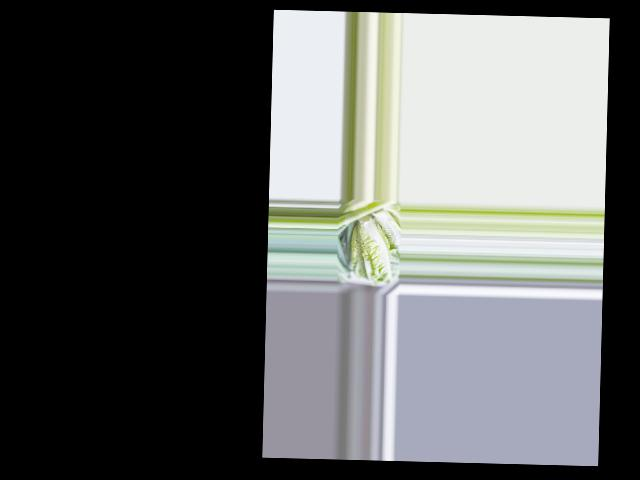lettuce: (349, 214, 394, 284)
